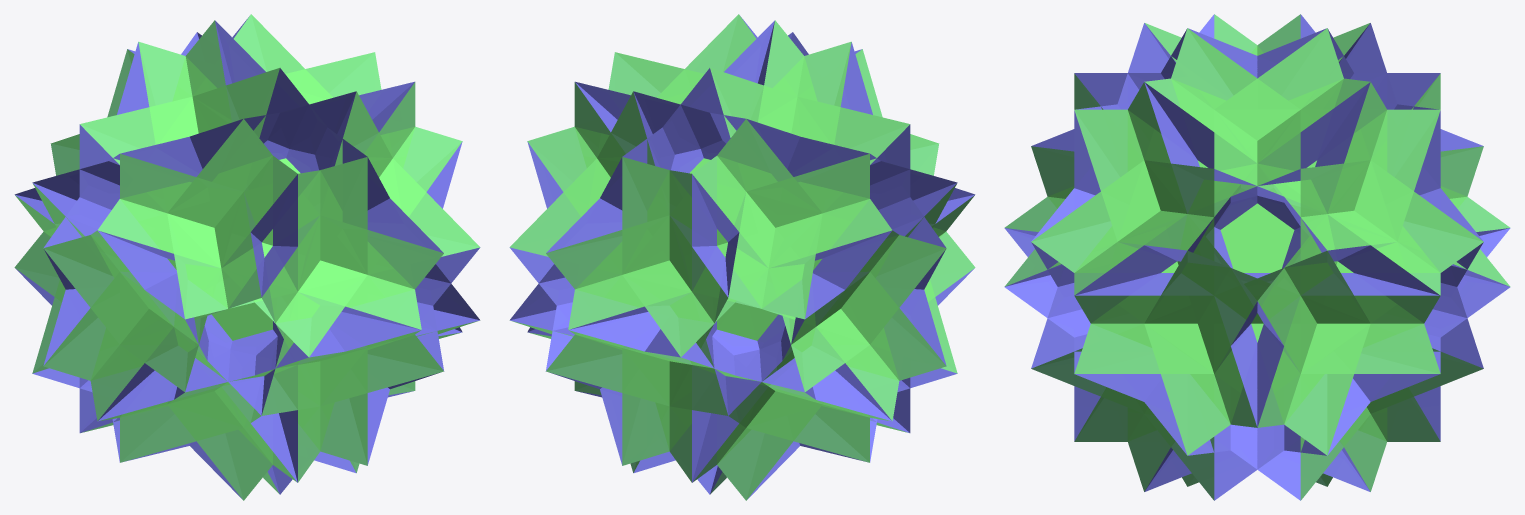
The model's file is GreatRhombidodecahedron.obj.
3 renders of one model, left to right at view 1: azimuth 30°, elevation 25°; view 2: azimuth 150°, elevation 25°; view 3: azimuth 270°, elevation 25°, orthographic. The views are drawn at different scales.
Bounding box in the file's own units: 1.38 × 1.38 × 1.38.
